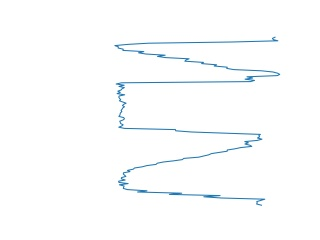distributaryChannelFill: (114, 72, 263, 142)
mouthBar: (110, 35, 285, 76)
underwaterDistributaryChannel: (116, 137, 268, 209)
